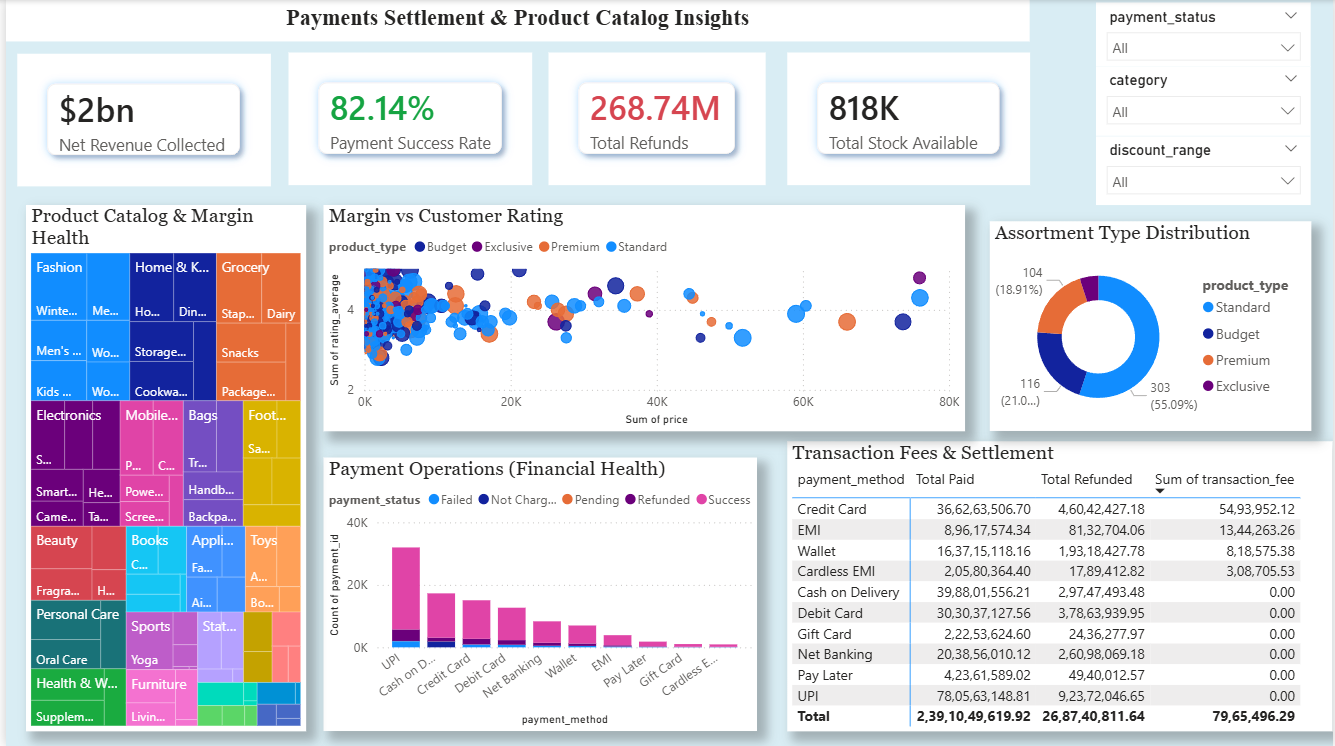

This screenshot's page, from the dashboard's own definition file:
{"tool":"powerbi","page":{"name":"Payments & Catalog","canvas":[1280,720],"ordinal":2},"visuals":[{"type":"cardVisual","fields":{"Data":["Dim_Date.Net Revenue Collected"]},"box":[10.9,51.9,244.9,127.9],"z":0},{"type":"cardVisual","fields":{"Data":["Dim_Date.Payment Success Rate"]},"box":[272.7,50.7,235.3,127.9],"z":1000},{"type":"cardVisual","fields":{"Data":["Dim_Date.Total Refunded"]},"box":[523.6,50.7,209.9,127.9],"z":2000},{"type":"cardVisual","fields":{"Data":["Dim_Date.Total Stock Units"]},"box":[754,50.7,234,127.9],"z":3000},{"type":"columnChart","title":"Payment Operations (Financial Health)","fields":{"Category":["payments.payment_method"],"Y":["CountNonNull(payments.payment_id)"],"Series":["payments.payment_status"]},"box":[306.4,441.6,418.6,264.2],"z":4000},{"type":"pivotTable","title":"Transaction Fees & Settlement","fields":{"Rows":["payments.payment_method"],"Values":["Dim_Date.Total Paid","Dim_Date.Total Refunded","Sum(payments.transaction_fee)"]},"box":[754,425.9,526,279.9],"z":5000},{"type":"treemap","title":"Product Catalog & Margin Health","fields":{"Group":["products.category"],"Details":["products.subcategory"],"Values":["Dim_Date.Total Stock Units"]},"box":[19.3,197.9,270.2,507.9],"z":6000},{"type":"scatterChart","title":"Margin vs Customer Rating","fields":{"Category":["products.product_name"],"X":["Sum(products.price)"],"Y":["Sum(products.rating_average)"],"Size":["Sum(products.stock_quantity)"],"Series":["products.product_type"]},"box":[306.4,197.9,618.9,218.4],"z":7000},{"type":"donutChart","title":"Assortment Type Distribution","fields":{"Category":["products.product_type"],"Y":["CountNonNull(products.product_id)"]},"box":[949.5,213.5,310.1,202.7],"z":8000},{"type":"slicer","fields":{"Values":["payments.payment_status"]},"box":[1052,2.4,207.5,61.5],"z":9000},{"type":"slicer","fields":{"Values":["products.category"]},"box":[1052,63.9,207.5,67.6],"z":10000},{"type":"slicer","fields":{"Values":["products.discount_range"]},"box":[1052,131.5,207.5,66.4],"z":11000},{"type":"textbox","box":[0,0,988.1,39.8],"z":12000}]}

Visuals, with their boxes in screenshot pixels (x1, y1, x2, y2), scaled from the page's 1280x720 canvas onto the 1335x746 screenshot:
cardVisual - Dim_Date.Net Revenue Collected: bbox=(11, 54, 267, 186)
cardVisual - Dim_Date.Payment Success Rate: bbox=(284, 53, 530, 185)
cardVisual - Dim_Date.Total Refunded: bbox=(546, 53, 765, 185)
cardVisual - Dim_Date.Total Stock Units: bbox=(786, 53, 1030, 185)
"Payment Operations (Financial Health)" columnChart: bbox=(320, 458, 756, 731)
"Transaction Fees & Settlement" pivotTable: bbox=(786, 441, 1334, 731)
"Product Catalog & Margin Health" treemap: bbox=(20, 205, 302, 731)
"Margin vs Customer Rating" scatterChart: bbox=(320, 205, 965, 431)
"Assortment Type Distribution" donutChart: bbox=(990, 221, 1314, 431)
slicer - payments.payment_status: bbox=(1097, 2, 1314, 66)
slicer - products.category: bbox=(1097, 66, 1314, 136)
slicer - products.discount_range: bbox=(1097, 136, 1314, 205)
textbox: bbox=(0, 0, 1031, 41)
